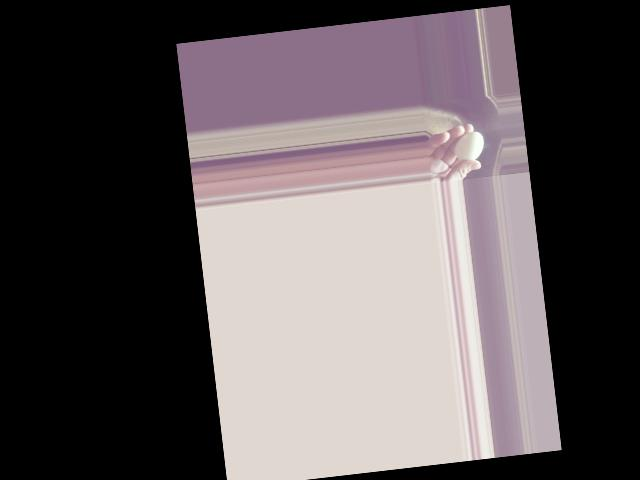egg: (452, 131, 485, 162)
